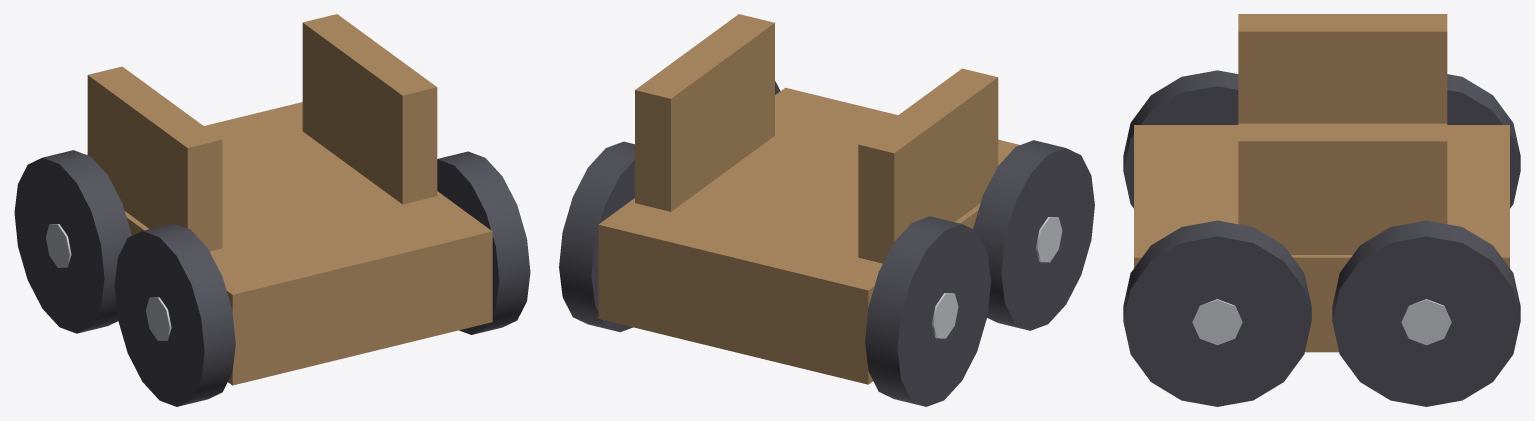
Rendered from cannon_base.gltf.
3 views of the same model, side by side, from view 1: azimuth 30°, elevation 25°; view 2: azimuth 150°, elevation 25°; view 3: azimuth 270°, elevation 25° (orthographic). The views are drawn at different scales.
Visible parts, largest first — view 1: cannon_base; view 2: cannon_base; view 3: cannon_base.
Boxes of the visible parts, bbox=[...] form: cannon_base: bbox=[14, 14, 530, 406]; cannon_base: bbox=[559, 14, 1094, 406]; cannon_base: bbox=[1123, 14, 1520, 406].
Size of the model in its own units: 1.9 by 1.3 by 1.9.
